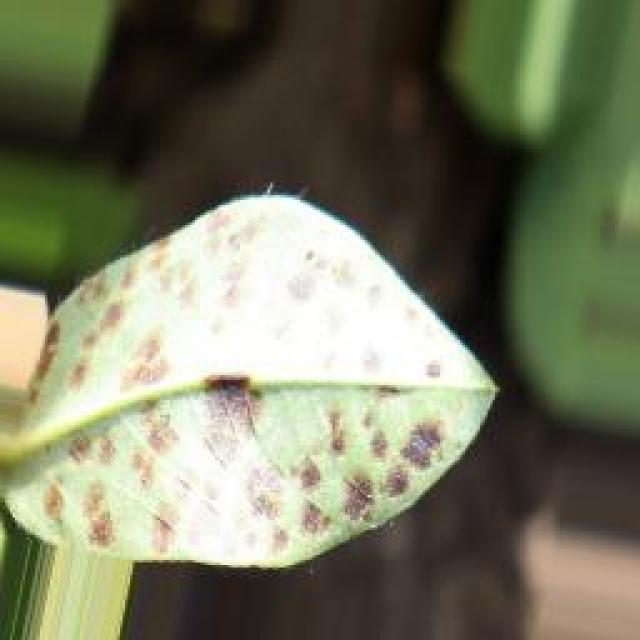Whitefly: (0, 186, 508, 603)
